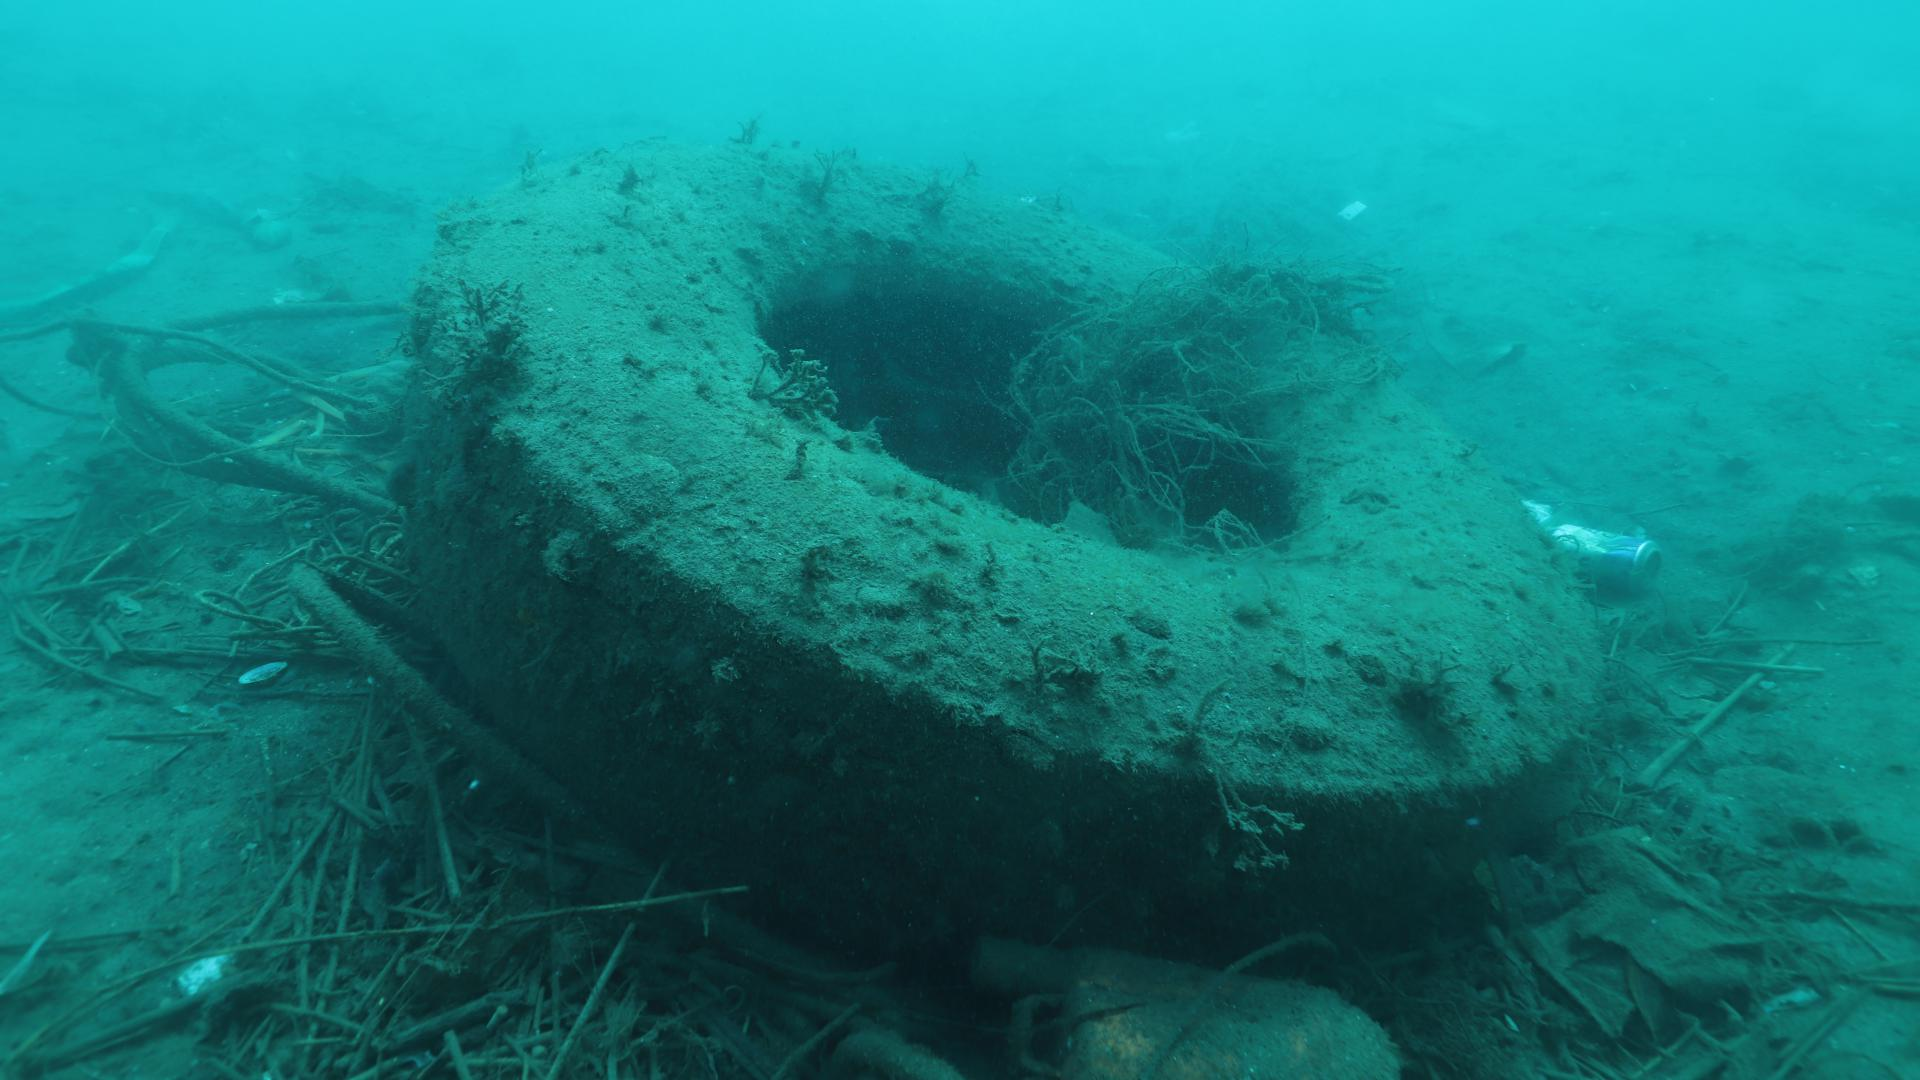tire: (400, 131, 1602, 971)
